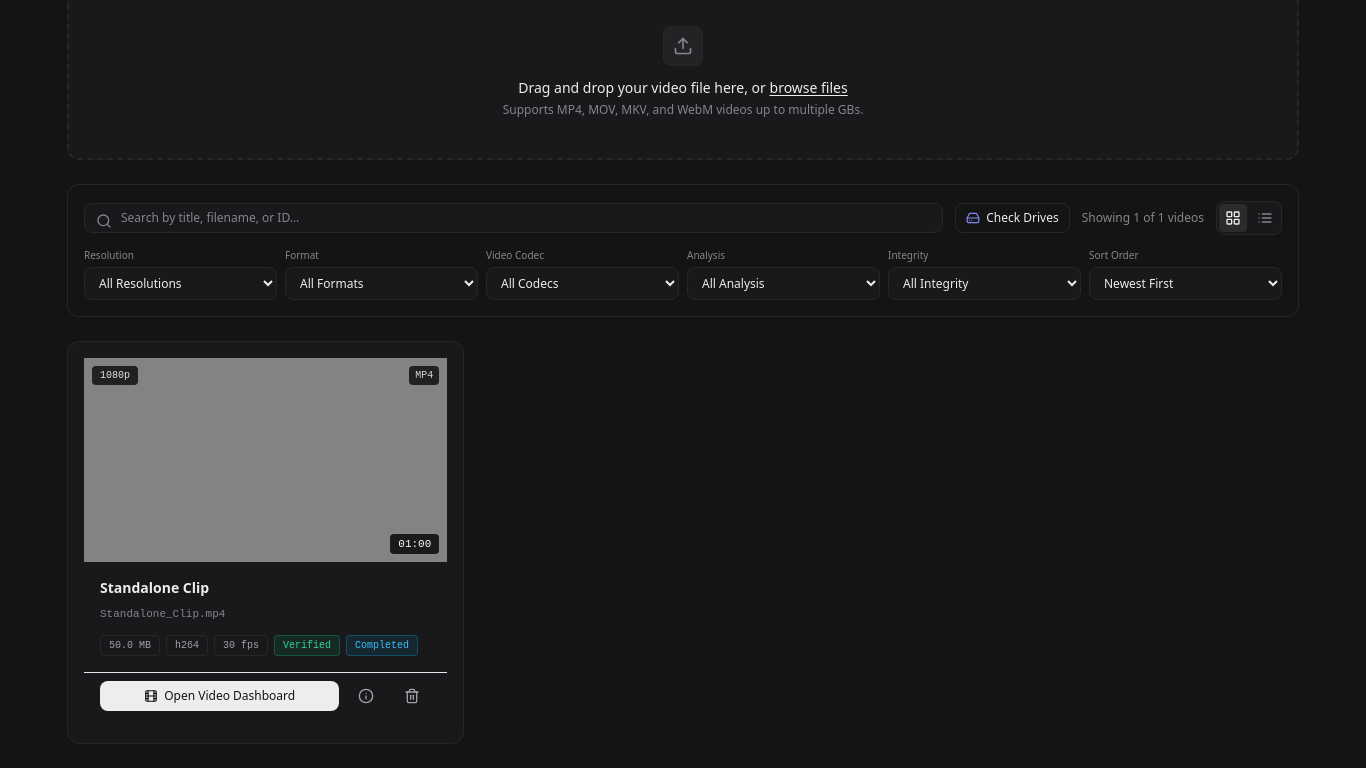
Test case: P1.8 Media Deduplication & Reference Counting UI Verification › displays standard reclaim notice when deleting standalone asset (reference_count = 1)
(page scrolled)
Expected: the heading "Standalone Clip" is shown, x1=100 y1=578 x2=209 y2=597
# Click delete button
Step 1. Click the button titled "Delete Video" → (412, 696), box x1=393 y1=681 x2=431 y2=711
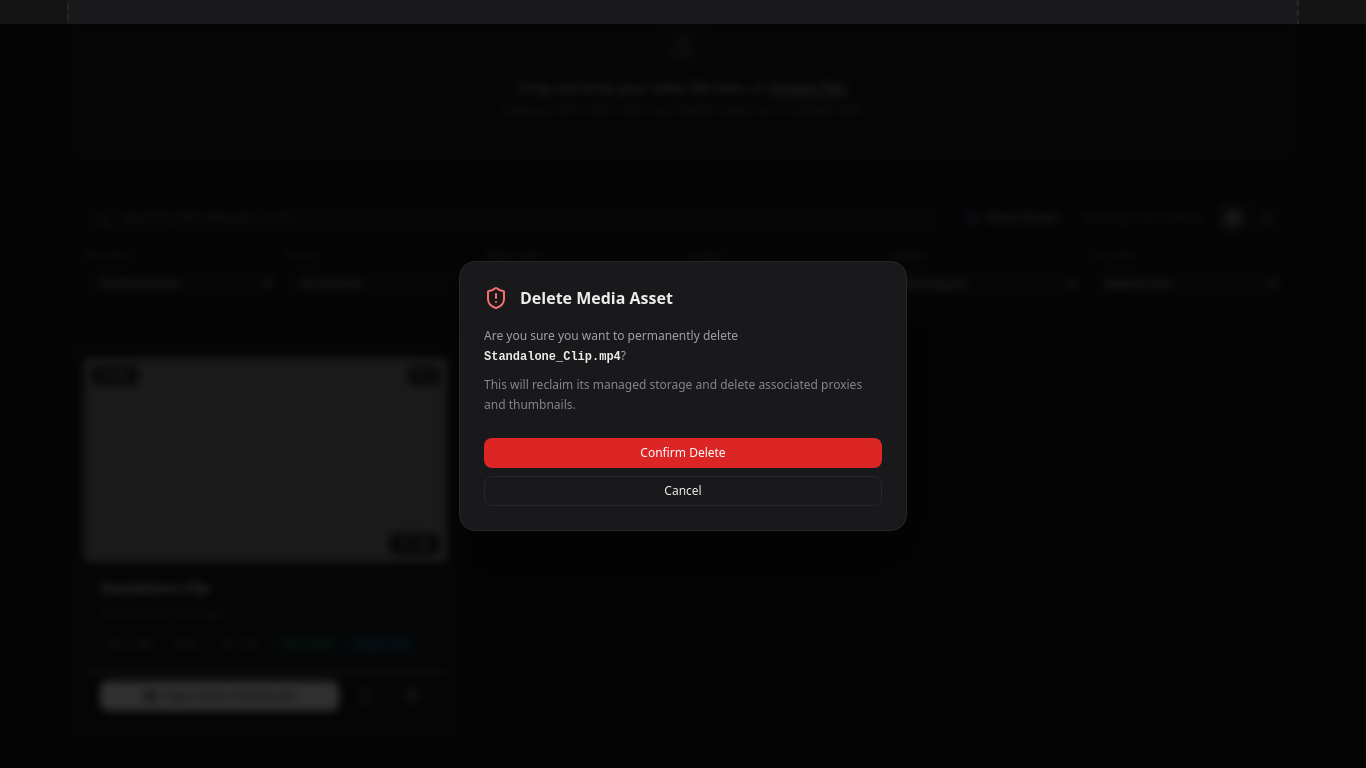
Result: the heading "Delete Media Asset" is shown at x1=520 y1=286 x2=673 y2=310
Result: the text "reclaim its managed storage" is shown at x1=484 y1=376 x2=862 y2=412
